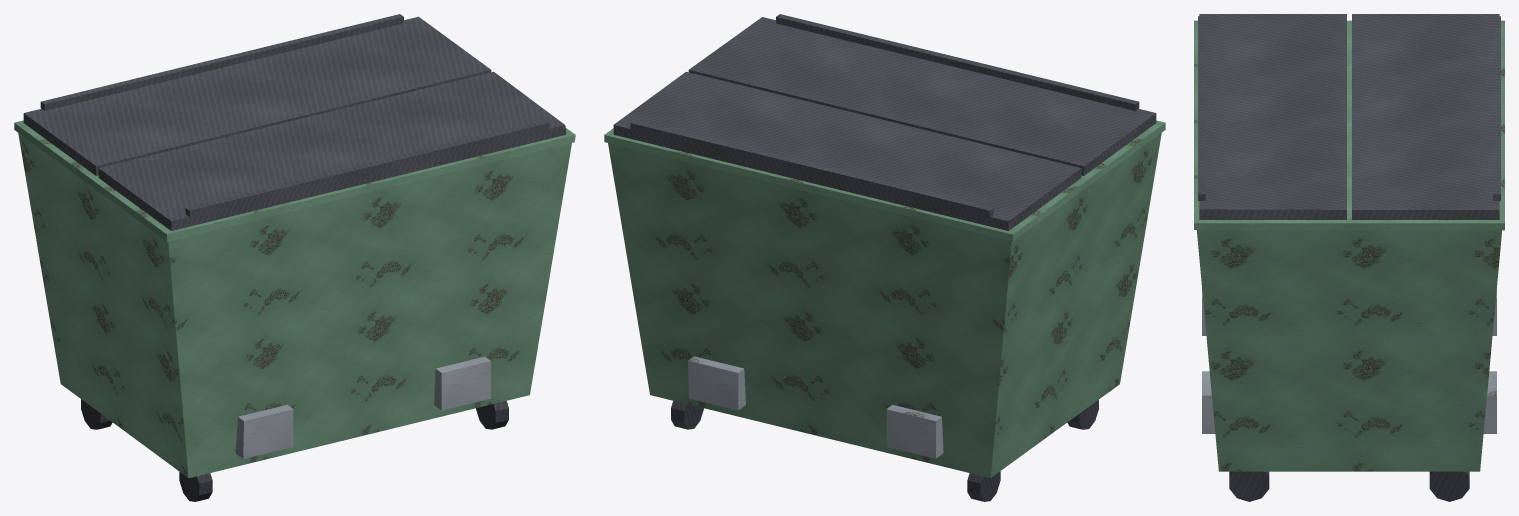
File: dumpster_v4.glb
3 views of the same model, side by side, from view 1: azimuth 30°, elevation 25°; view 2: azimuth 150°, elevation 25°; view 3: azimuth 270°, elevation 25° (orthographic).
Parts seen in each view (by area): view 1: Variant_dumpster_4; view 2: Variant_dumpster_4; view 3: Variant_dumpster_4.
Boxes of the visible parts, box(x1,y1,x2,y2) form: Variant_dumpster_4: box(14, 14, 575, 501); Variant_dumpster_4: box(604, 14, 1165, 501); Variant_dumpster_4: box(1194, 14, 1504, 501).
Bounding box in the file's own units: 1.82 × 1.34 × 1.18.
4 materials, 4 textured.
